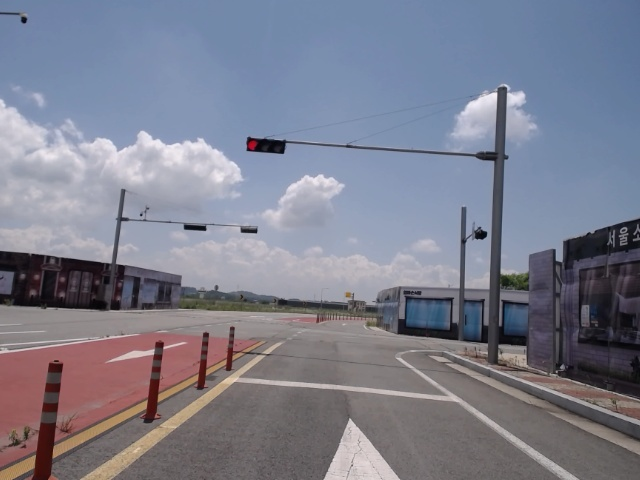red_3: (246, 139, 286, 152)
